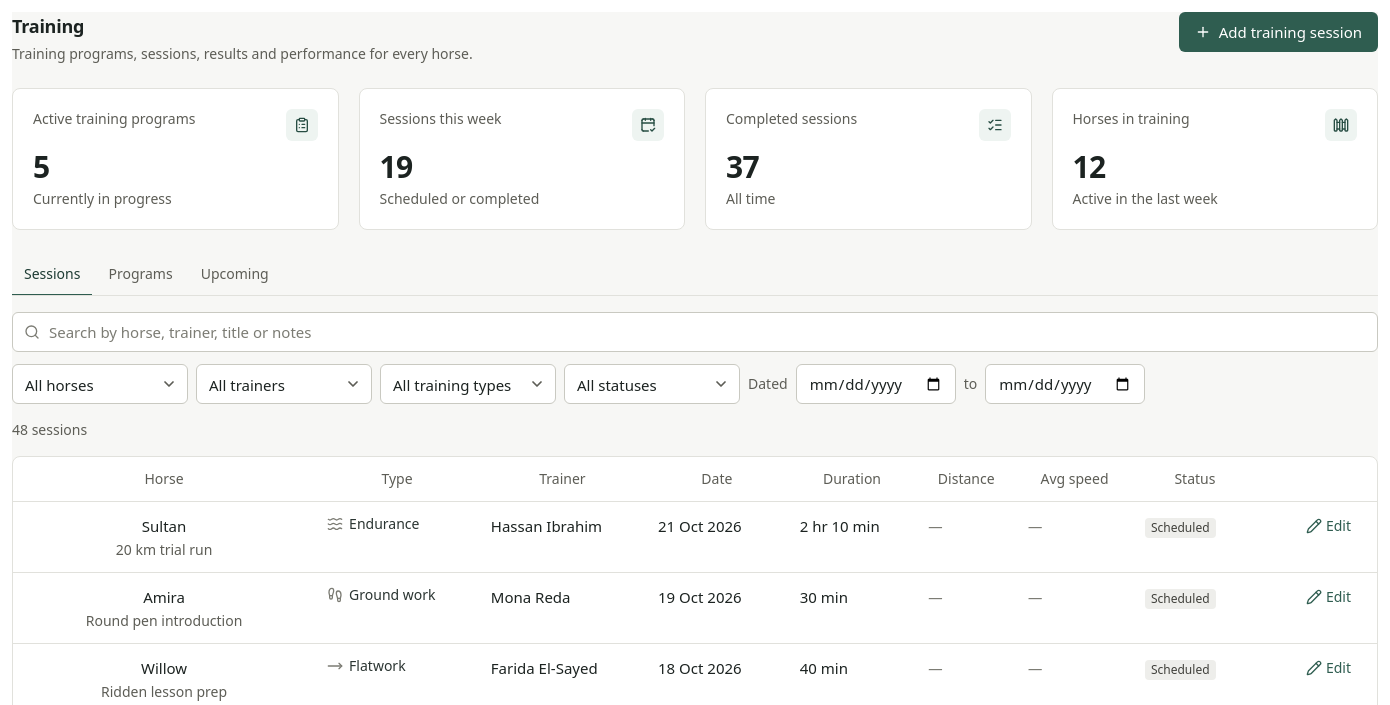
TrainingOverviewPage › shows the training programs on the programs tab
Click the tab "Programs" at coordinates (140, 275), box [96,254,185,296]
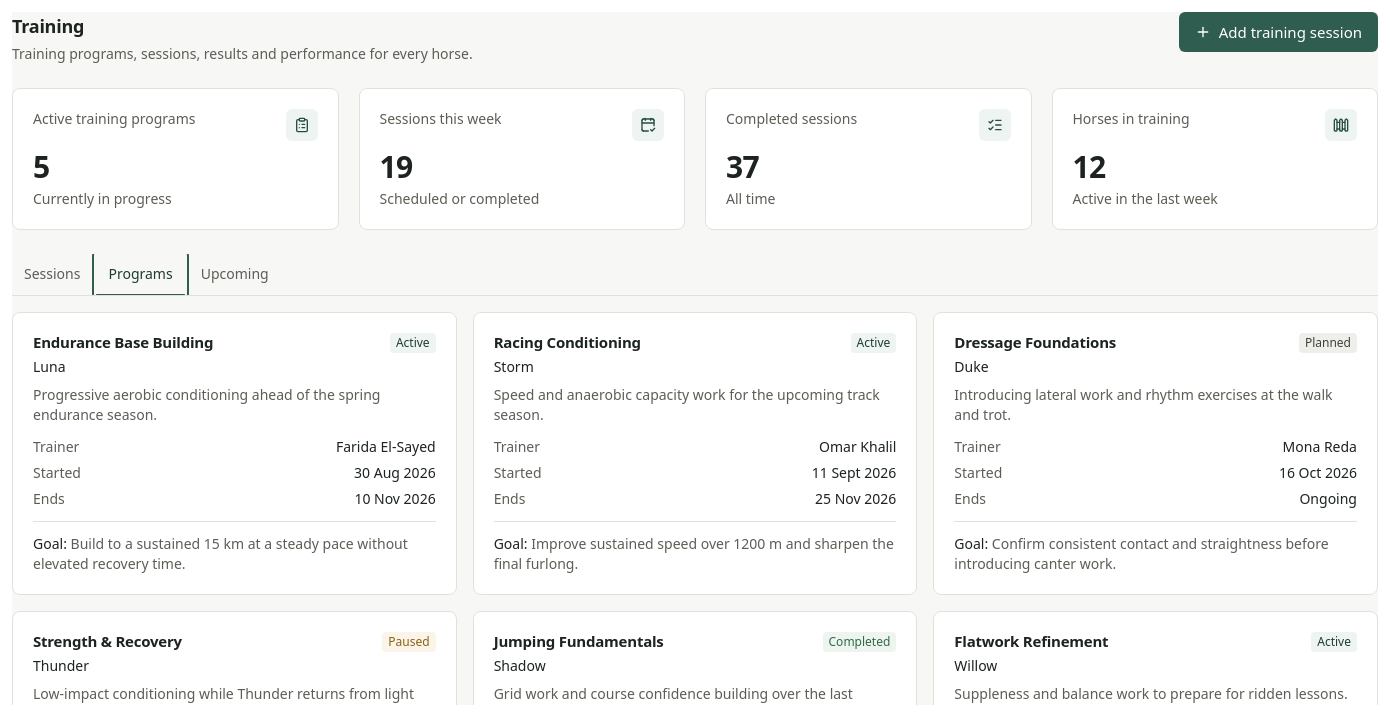
Expected: the heading "Endurance Base Building" is shown, [33,332,213,352]
